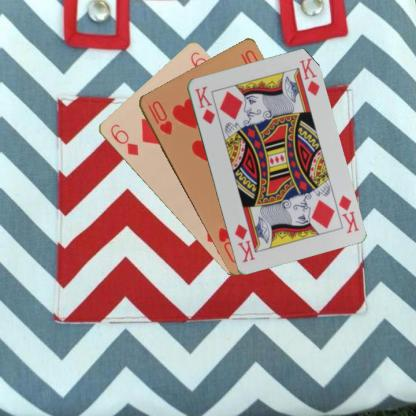10h: (144, 98, 173, 136)
6d: (107, 121, 140, 157)
Kd: (335, 192, 360, 235), (192, 84, 216, 126)
